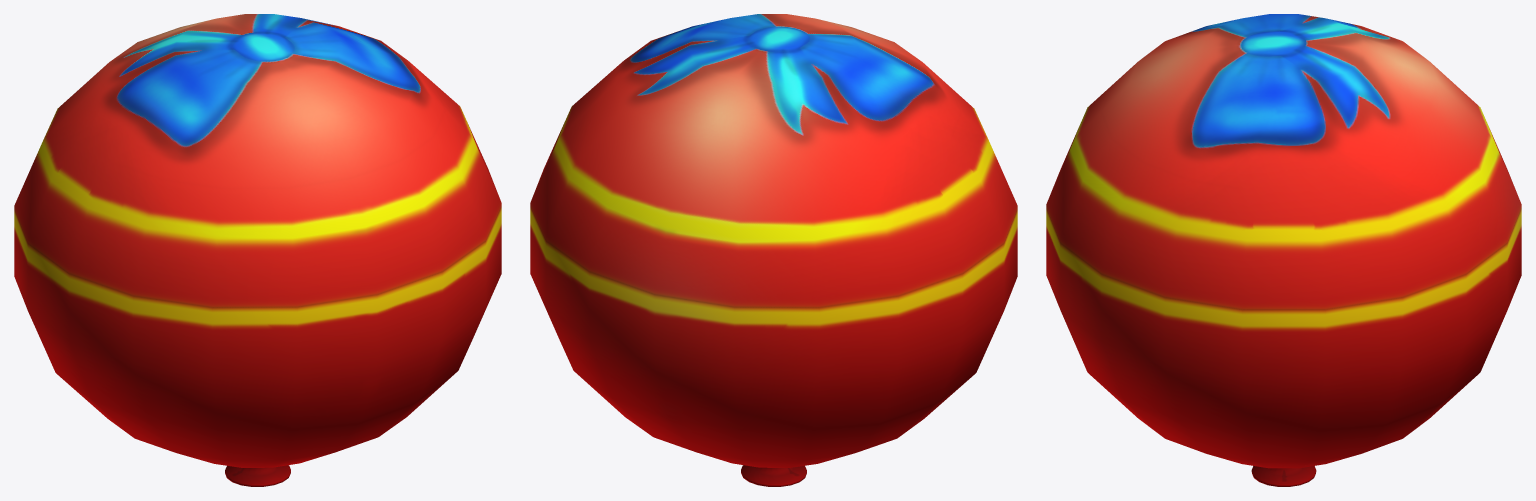
Rendered from Ñoño_Globo.FBX.
3 renders of one model, left to right at view 1: azimuth 30°, elevation 25°; view 2: azimuth 150°, elevation 25°; view 3: azimuth 270°, elevation 25°, orthographic.
Parts seen in each view (by area): view 1: GloboChavo_Low005; view 2: GloboChavo_Low005; view 3: GloboChavo_Low005.
Boxes of the visible parts, x1,y1,x2,y2 form: GloboChavo_Low005: (14, 14, 501, 486); GloboChavo_Low005: (530, 14, 1017, 486); GloboChavo_Low005: (1046, 14, 1521, 486).
Bounding box in the file's own units: 5.85 × 5.83 × 5.76.
